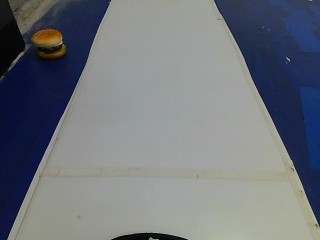burger: (25, 22, 74, 67)
